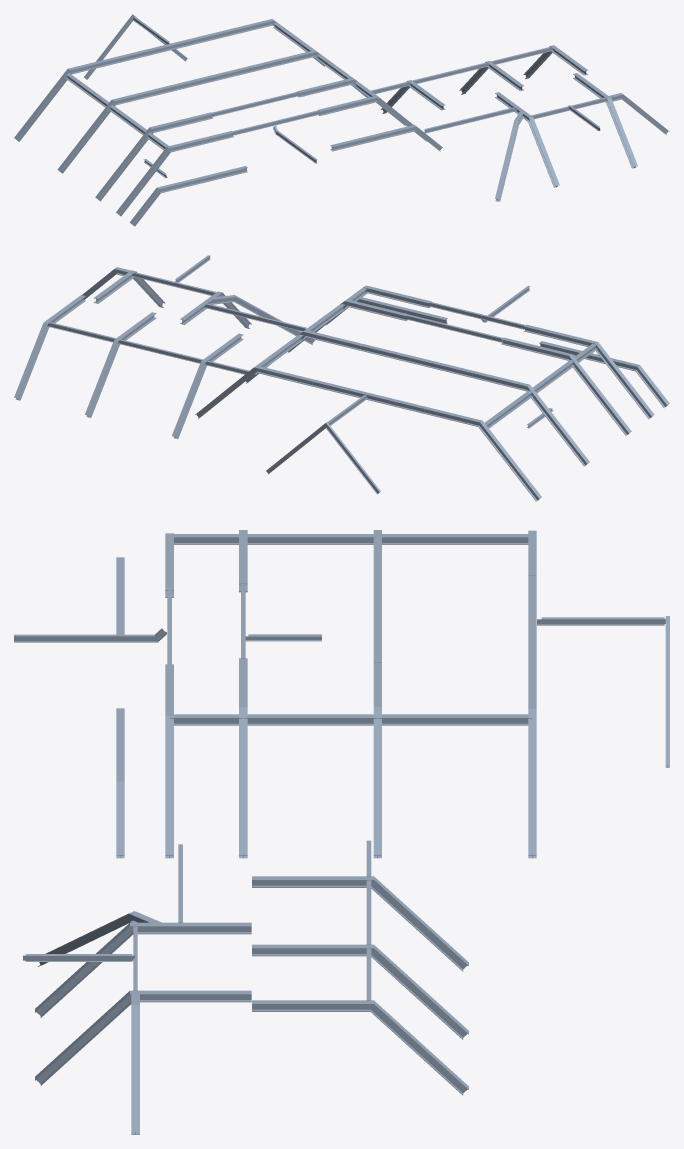
Rendered from stage-5.glb.
3 views of the same model, one above another, from view 1: azimuth 30°, elevation 25°; view 2: azimuth 150°, elevation 25°; view 3: azimuth 270°, elevation 25° (orthographic). The views are drawn at different scales.
Parts seen in each view (by area): view 1: Geom3D; view 2: Geom3D; view 3: Geom3D.
Part boxes in pixels (x1,y1,x2,y2): Geom3D: (14,14,669,226); Geom3D: (14,255,669,501); Geom3D: (14,530,669,1134).
Bounding box in the file's own units: 33.37 × 6.13 × 19.62.
